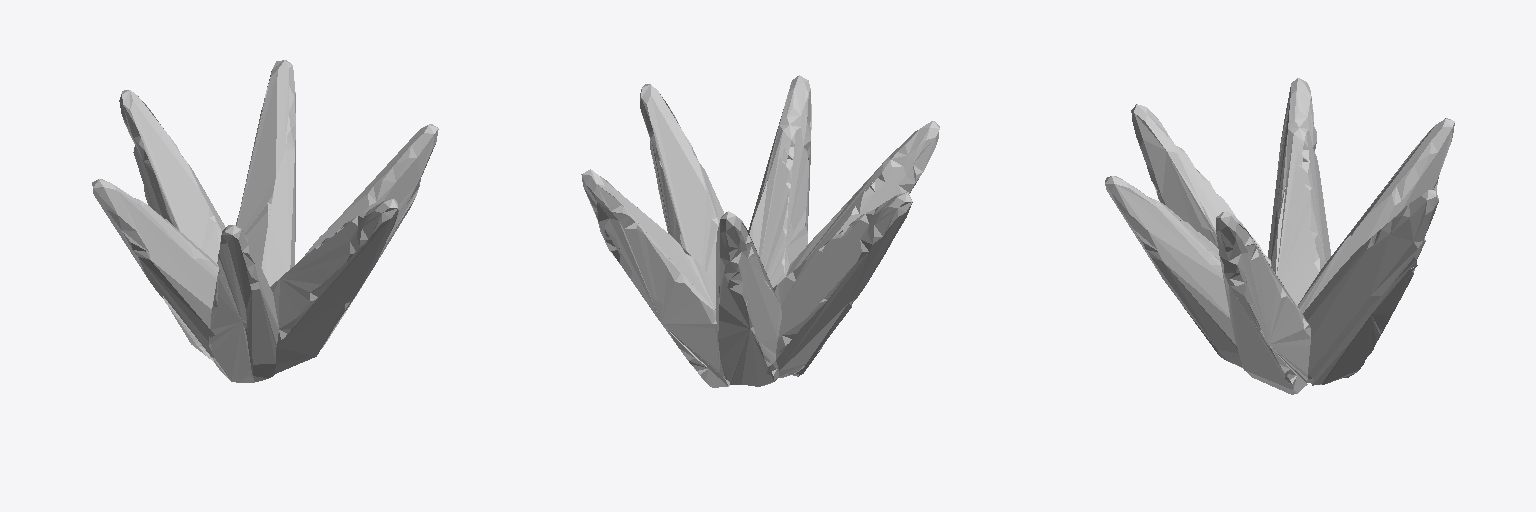
Rendered from bonecluster.obj.
The picture shows the model from 3 angles: view 1: azimuth 30°, elevation 25°; view 2: azimuth 150°, elevation 25°; view 3: azimuth 270°, elevation 25°; orthographic projection.
Visible parts, largest first — view 1: Cube.003; view 2: Cube.003; view 3: Cube.003.
Boxes of the visible parts, x1=… form: Cube.003: x1=92, y1=60, x2=438, y2=382; Cube.003: x1=581, y1=75, x2=939, y2=387; Cube.003: x1=1105, y1=78, x2=1454, y2=394.
Bounding box in the file's own units: 6.66 × 4.8 × 6.57.